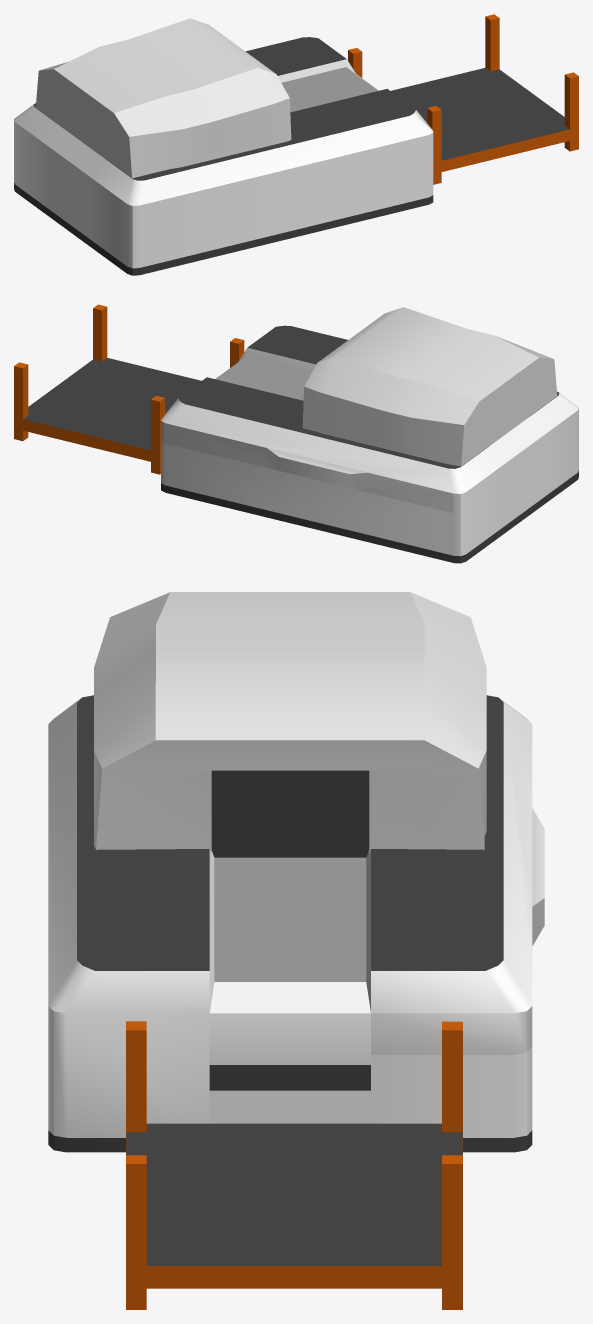
File: machineToolAuto.fbx
3 views of the same model, one above another, from view 1: azimuth 30°, elevation 25°; view 2: azimuth 150°, elevation 25°; view 3: azimuth 270°, elevation 25° (orthographic). The views are drawn at different scales.
Parts seen in each view (by area): view 1: MachineTool; view 2: MachineTool; view 3: MachineTool.
Boxes of the visible parts, box(x1,y1,x2,y2) form: MachineTool: box(14, 14, 578, 275); MachineTool: box(14, 304, 578, 563); MachineTool: box(48, 592, 544, 1309).
Size of the model in its own units: 2997 by 937 by 1385.
